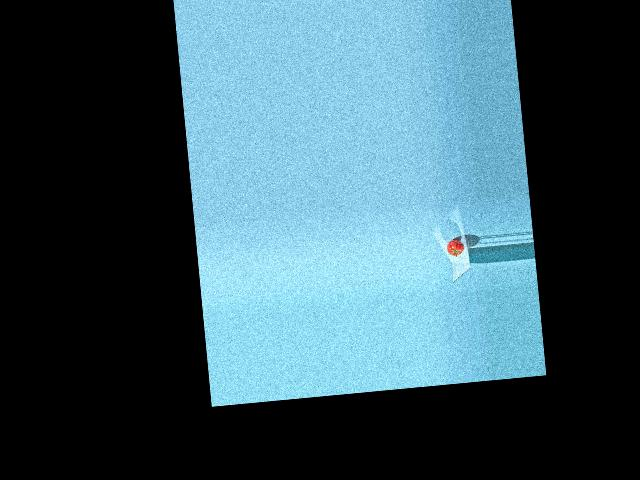tomato: (446, 238, 465, 256)
